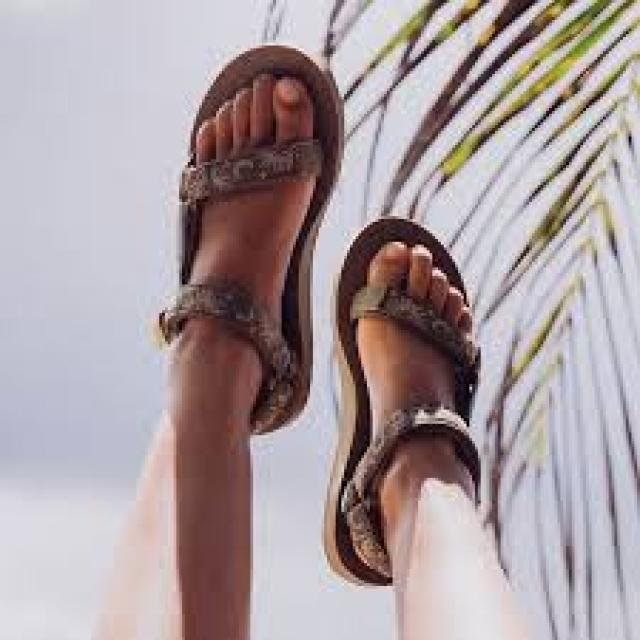No_Shoe: (151, 58, 342, 392), (324, 239, 493, 562)
